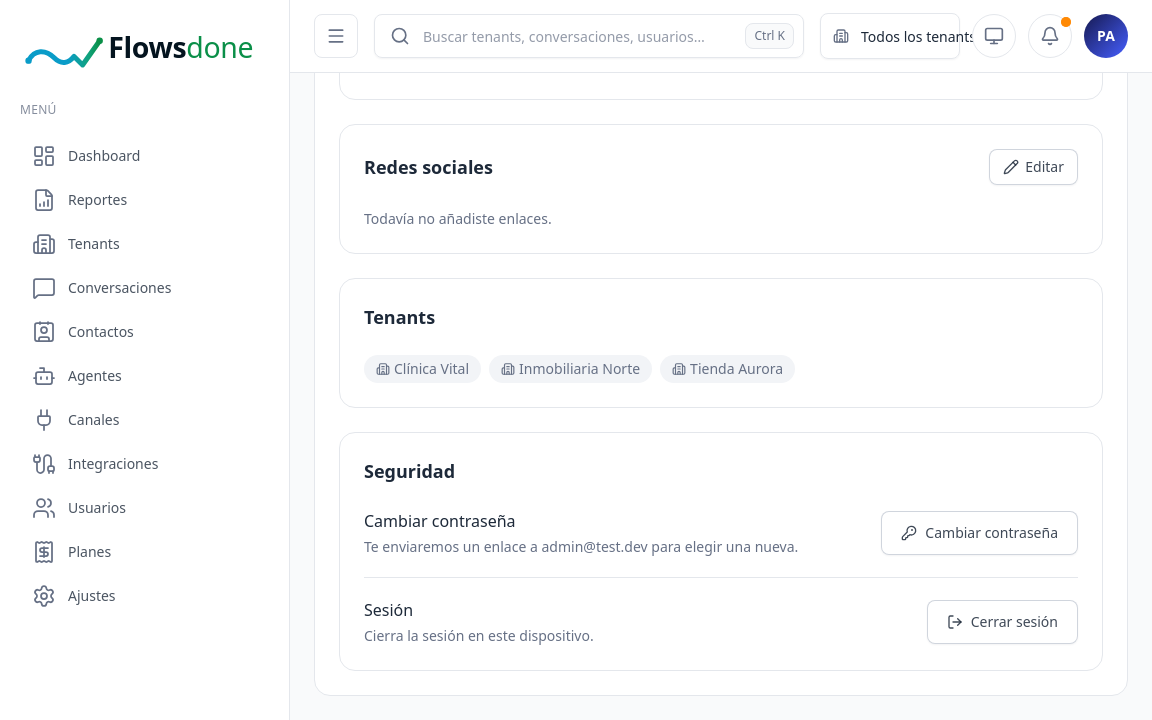
ProfilePage › si el envío falla muestra el error y deja reintentar
(page scrolled)
Click the button "Cambiar contraseña" at [980, 533], box [881,511,1078,555]
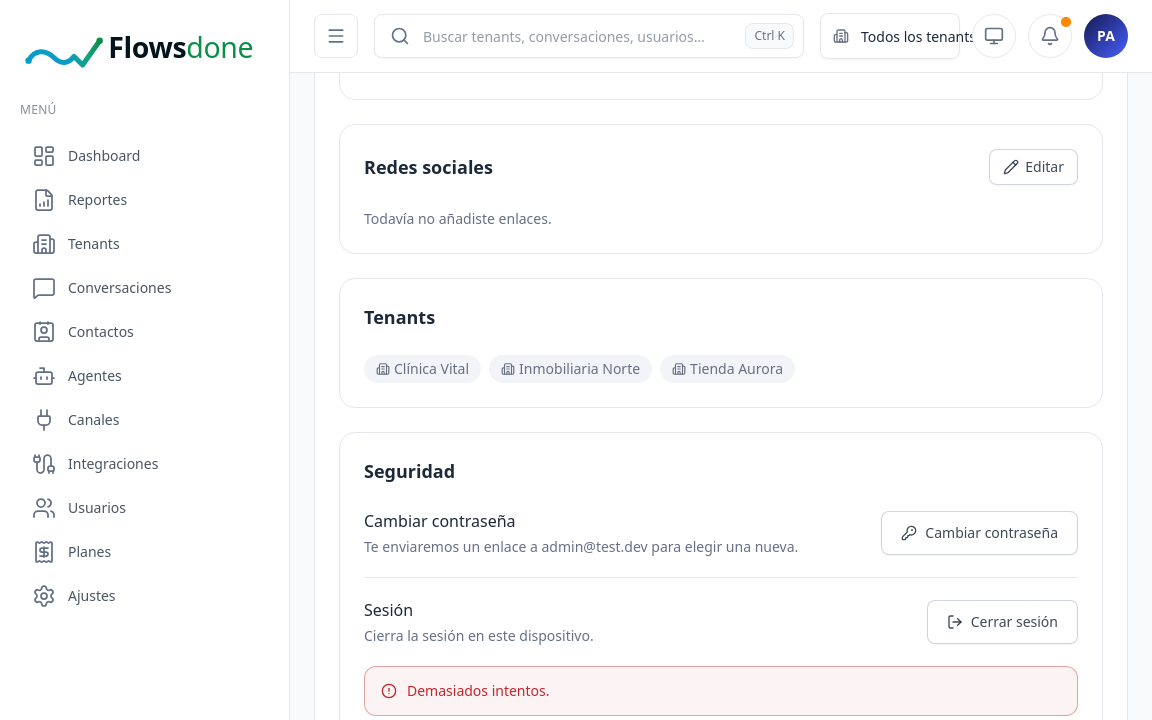
expect the message reads "Demasiados intentos.": met, box [407,681,550,700]
